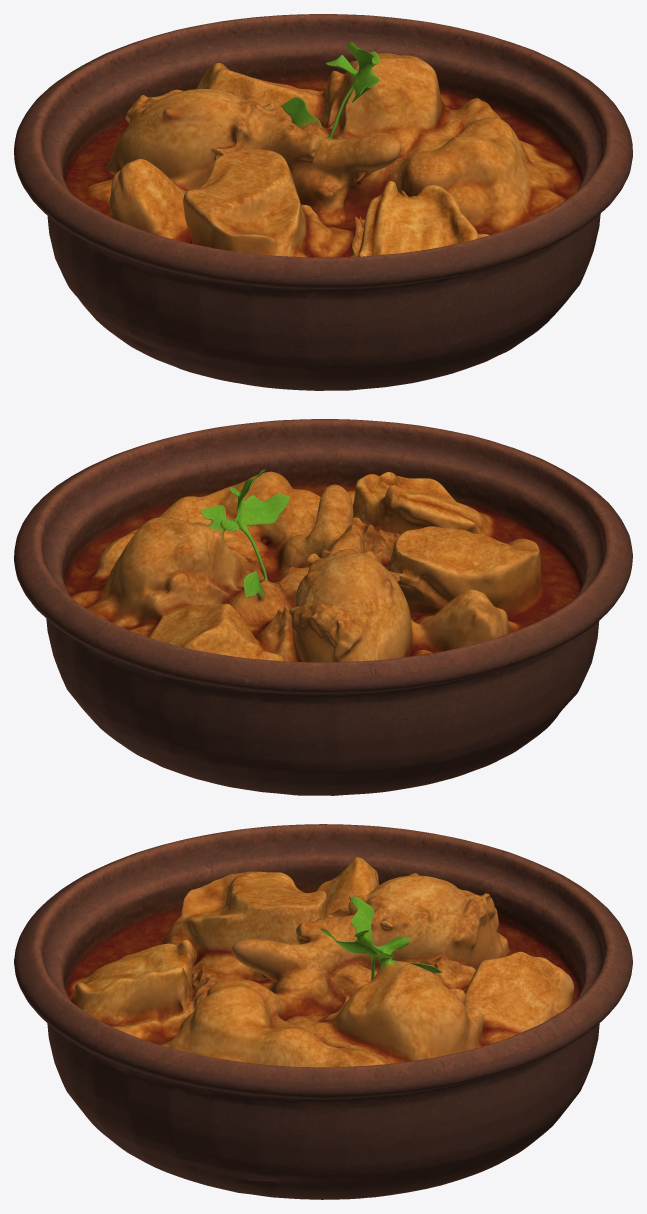
Rendered from KariDebal.glb.
The picture shows the model from 3 angles, top to bottom: view 1: azimuth 30°, elevation 25°; view 2: azimuth 150°, elevation 25°; view 3: azimuth 270°, elevation 25°; orthographic projection.
Bounding box in the file's own units: 1.9 × 0.8288 × 1.9.
1 material, 1 textured.
